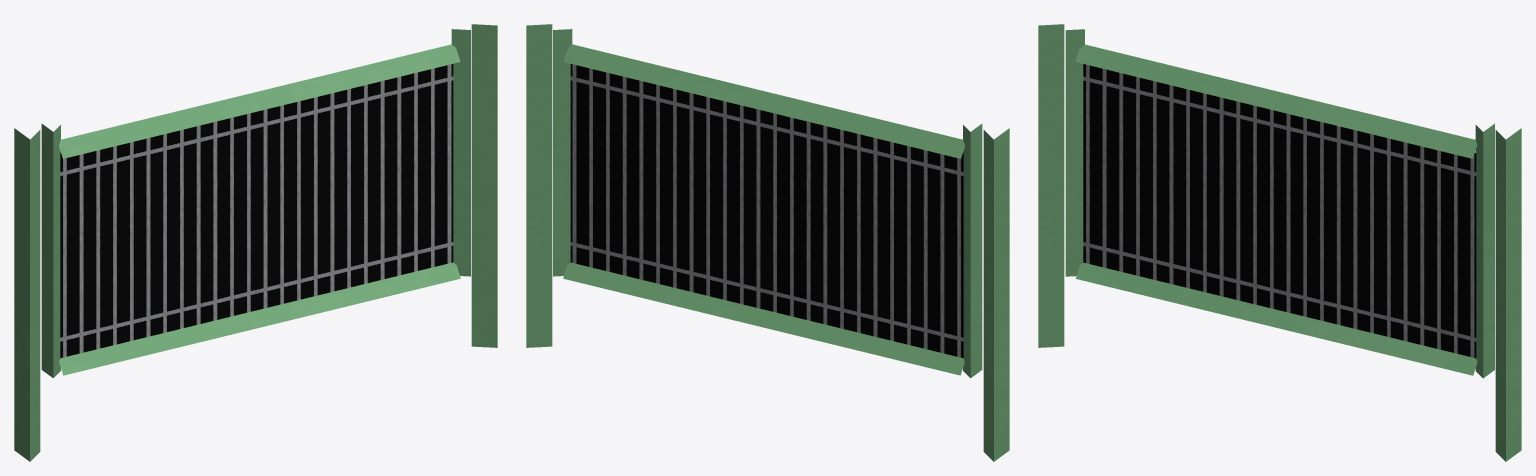
File: fence-mesh-gate-2m-cbj_LOD01.gltf
The picture shows the model from 3 angles, left to right: view 1: azimuth 30°, elevation 25°; view 2: azimuth 150°, elevation 25°; view 3: azimuth 330°, elevation 25°; orthographic projection.
Parts seen in each view (by area): view 1: post01; view 2: post01; view 3: post01.
Boxes of the visible parts, bbox=[...] form: post01: bbox=[14, 24, 497, 461]; post01: bbox=[526, 24, 1009, 461]; post01: bbox=[1038, 24, 1521, 461].
Size of what is drawn, in the model's own units: 2.12 by 1.4 by 0.1238.
